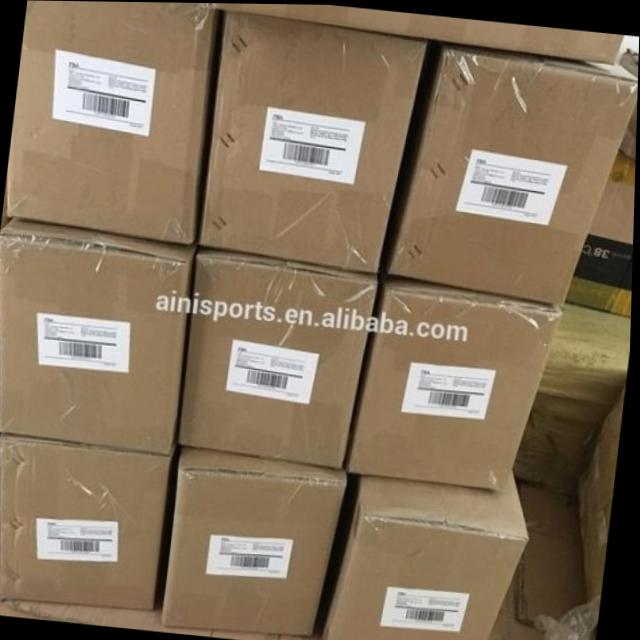box: (390, 39, 638, 305), (199, 9, 428, 272), (8, 0, 214, 244), (348, 273, 567, 491), (1, 217, 196, 454), (180, 244, 380, 470), (321, 470, 533, 640), (164, 446, 349, 635), (1, 435, 173, 610)
